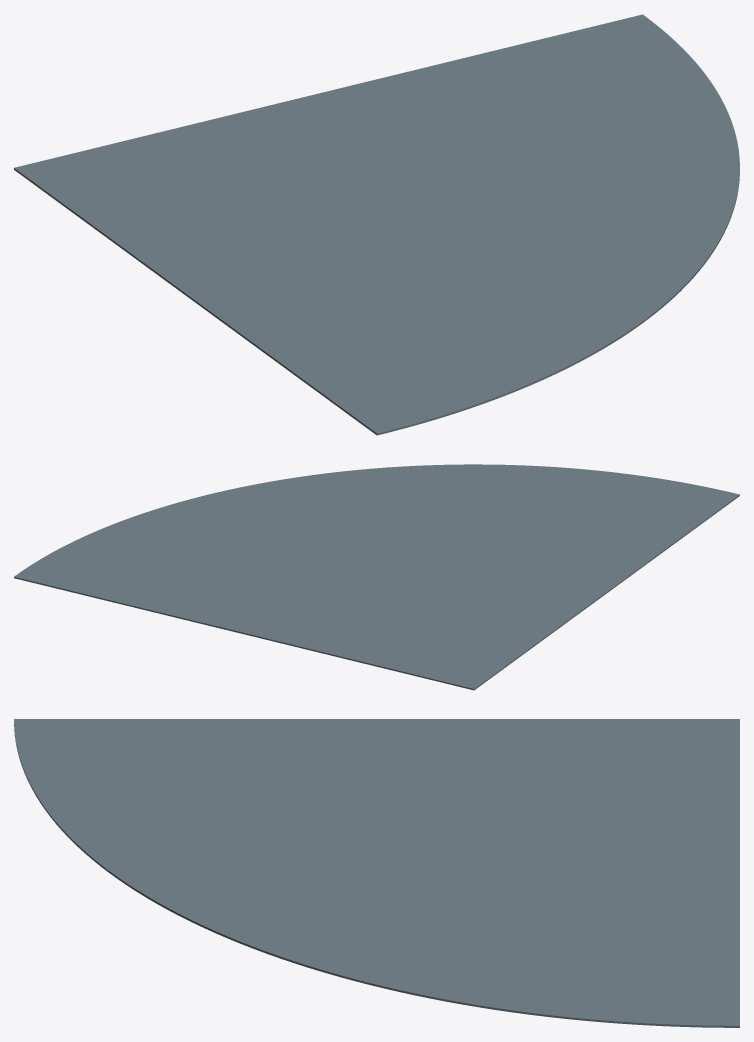
File: tt_rink_surface_corner.glb
The picture shows the model from 3 angles, top to bottom: view 1: azimuth 30°, elevation 25°; view 2: azimuth 150°, elevation 25°; view 3: azimuth 270°, elevation 25°; orthographic projection. The views are drawn at different scales.
Parts seen in each view (by area): view 1: Rubber_Surface; view 2: Rubber_Surface; view 3: Rubber_Surface.
Part boxes in pixels (x1,y1,x2,y2): Rubber_Surface: (14,14,739,435); Rubber_Surface: (14,464,739,690); Rubber_Surface: (14,719,739,1027).
Size of what is drawn, in the model's own units: 3.93 by 0.012 by 3.93.
